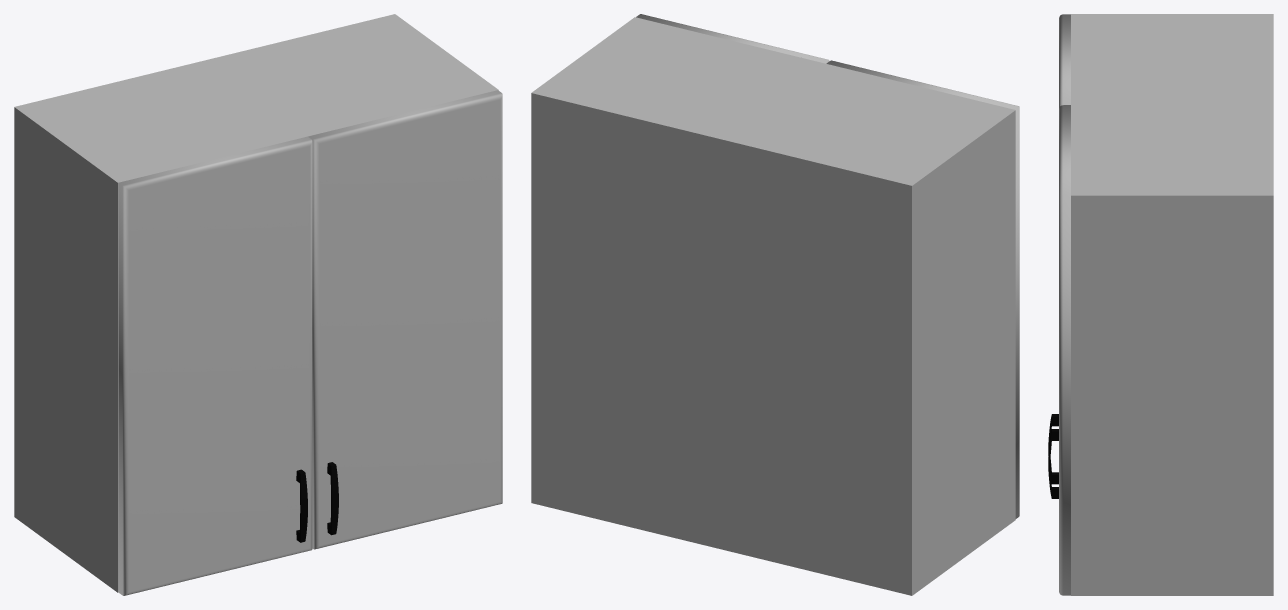
The picture shows the model from 3 angles, left to right: view 1: azimuth 30°, elevation 25°; view 2: azimuth 150°, elevation 25°; view 3: azimuth 270°, elevation 25°; orthographic projection. The views are drawn at different scales.
Visible parts, largest first — view 1: Box001, Box011, Box012, Obj3d66-503491-2-345; view 2: Box001, Box011, Box012; view 3: Box001, Box012, Box011, Obj3d66-503491-2-345.
Part boxes in pixels (bbox=[...]): Box001: bbox=[14, 14, 498, 592]; Box011: bbox=[118, 136, 312, 595]; Box012: bbox=[309, 90, 502, 549]; Obj3d66-503491-2-345: bbox=[327, 462, 338, 535]; Box001: bbox=[531, 17, 1015, 595]; Box011: bbox=[826, 60, 1019, 518]; Box012: bbox=[636, 14, 829, 63]; Box001: bbox=[1071, 14, 1273, 595]; Box012: bbox=[1059, 105, 1070, 595]; Box011: bbox=[1059, 14, 1070, 108]; Obj3d66-503491-2-345: bbox=[1048, 429, 1058, 498].
Size of the model in its own units: 0.7 by 0.72 by 0.3671.
Materials: 2 (1 with a texture image).
